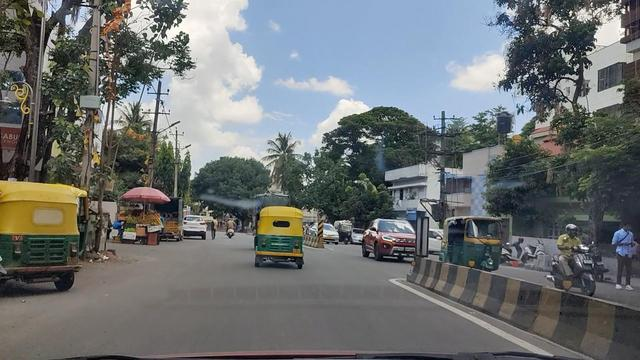LMV: (259, 211, 304, 266)
